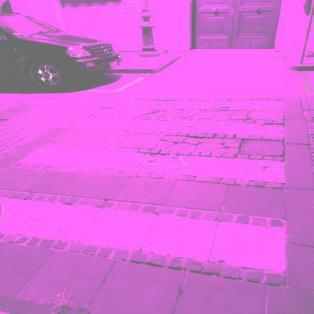Paso de Cebra: (6, 114, 301, 184), (127, 73, 291, 95)
